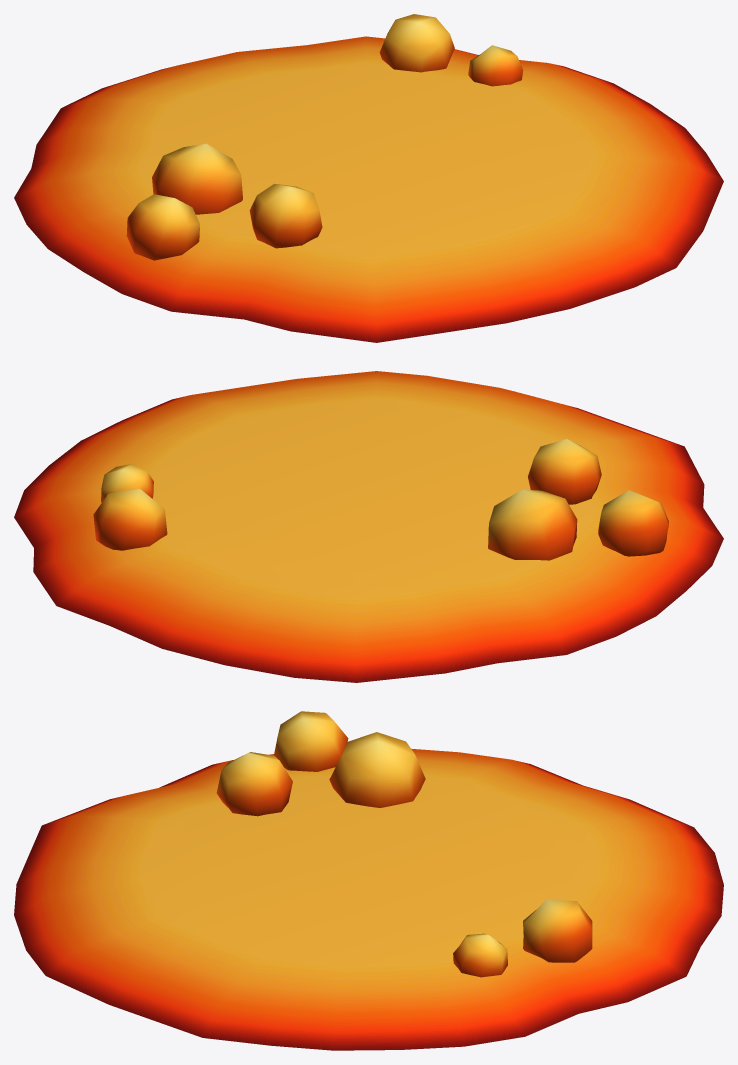
Rendered from m_LavaPuddle03.fbx.
3 renders of one model, top to bottom at view 1: azimuth 30°, elevation 25°; view 2: azimuth 150°, elevation 25°; view 3: azimuth 270°, elevation 25°, orthographic. The views are drawn at different scales.
Visible parts, largest first — view 1: m_LavaPuddle03; view 2: m_LavaPuddle03; view 3: m_LavaPuddle03.
Part boxes in pixels (x1,y1,x2,y2): m_LavaPuddle03: (14, 14, 723, 342); m_LavaPuddle03: (14, 371, 723, 682); m_LavaPuddle03: (14, 711, 723, 1050).
Bounding box in the file's own units: 353 × 44.64 × 353.
